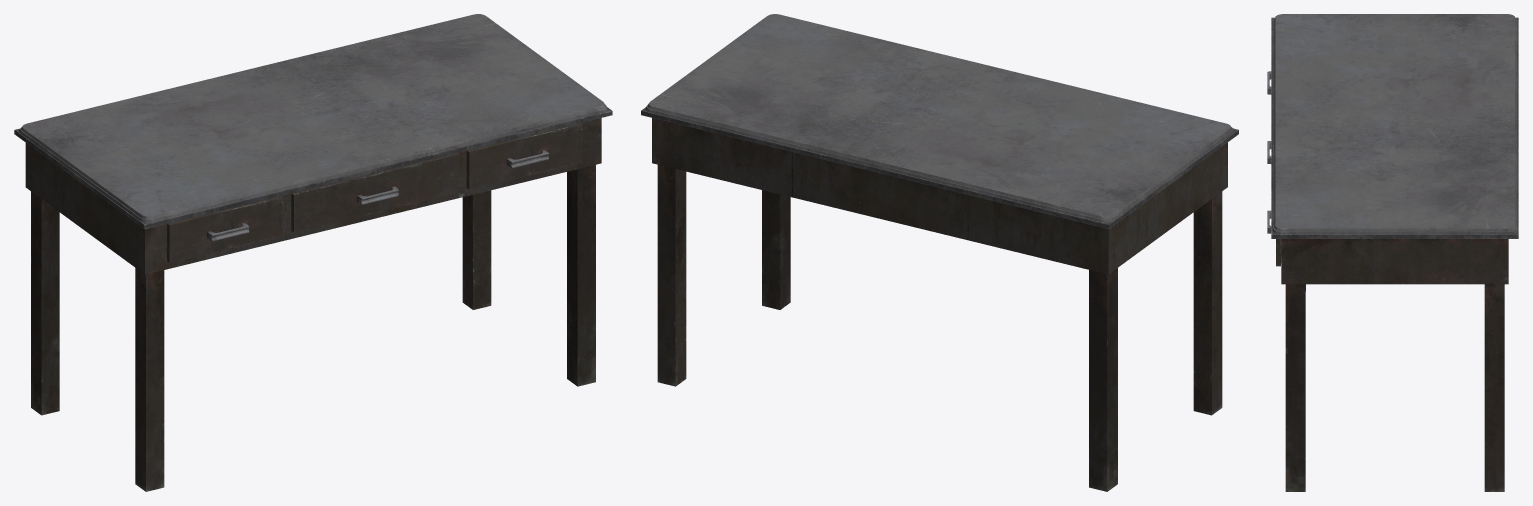
Rendered from desk_metal.dae.
The picture shows the model from 3 angles, left to right: view 1: azimuth 30°, elevation 25°; view 2: azimuth 150°, elevation 25°; view 3: azimuth 270°, elevation 25°; orthographic projection. The views are drawn at different scales.
Parts seen in each view (by area): view 1: desk, drawer_2, drawer_3, drawer_1; view 2: desk; view 3: desk.
Part boxes in pixels (x1=…): desk: x1=14, y1=14, x2=612, y2=491; drawer_2: x1=291, y1=153, x2=457, y2=232; drawer_3: x1=466, y1=123, x2=582, y2=189; drawer_1: x1=167, y1=196, x2=282, y2=262; desk: x1=641, y1=14, x2=1238, y2=491; desk: x1=1271, y1=14, x2=1518, y2=491.
Bounding box in the file's own units: 1.83 × 1.05 × 0.8973.
